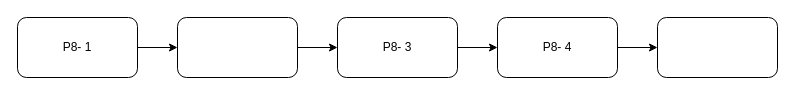
The diagram is 795 pixels wide and 95 high, and some of its shapes have lost their labels. The centre of each missing label's shape, as x and y in pixels:
"P8- 2" goes at (x=237, y=47).
"P8- 5" goes at (x=717, y=47).
